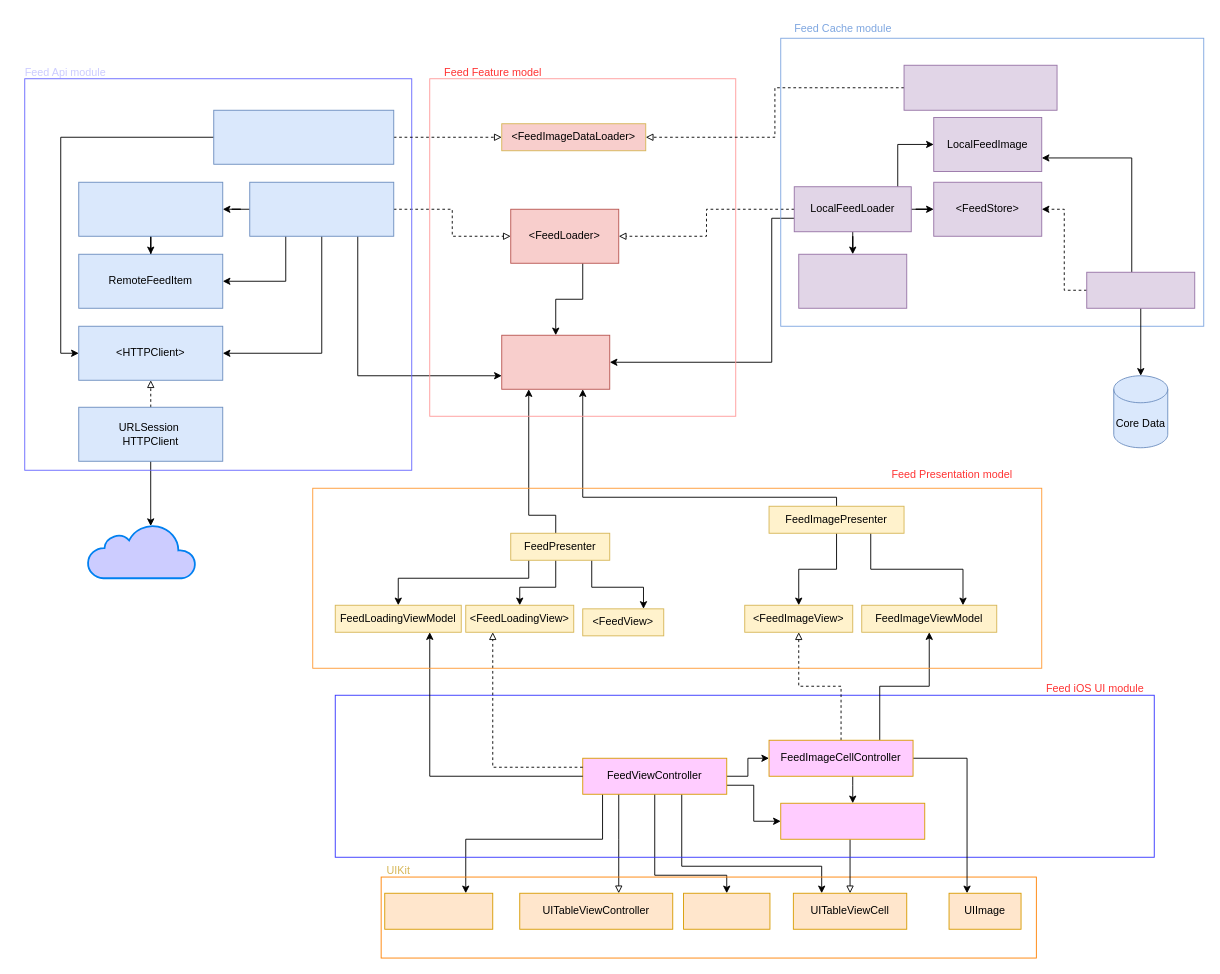
This 1220x974 diagram has some shape labels left out. Here are the shapes that lost their labels. From the top down, the box of each, then its label:
(903, 64, 1057, 110): LocalFeedImageDataLoader
(213, 109, 394, 164): RemoteFeedImageDataLoader
(78, 181, 223, 236): FeedItemsMapper
(249, 181, 394, 236): RemoteFeedLoader
(798, 253, 907, 308): FeedCachePolicy
(1086, 271, 1195, 308): CoreDataFeedStore
(501, 334, 610, 389): FeedImage
(780, 802, 925, 839): FeedViewCell
(384, 892, 493, 929): UIRefreshControl
(683, 892, 770, 929): UITableView
